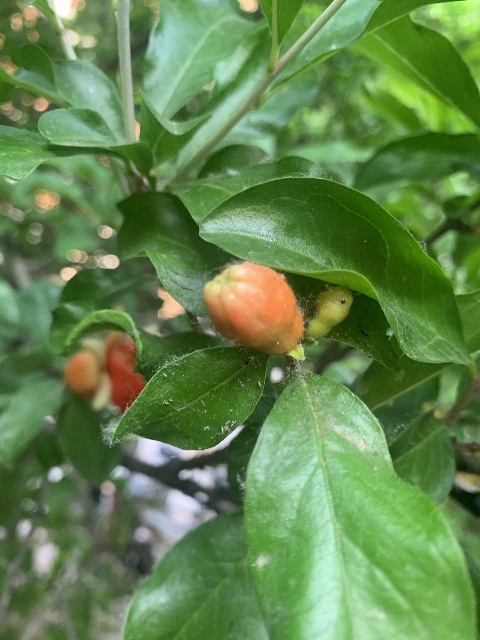bud: (203, 263, 302, 356), (307, 284, 353, 343)
